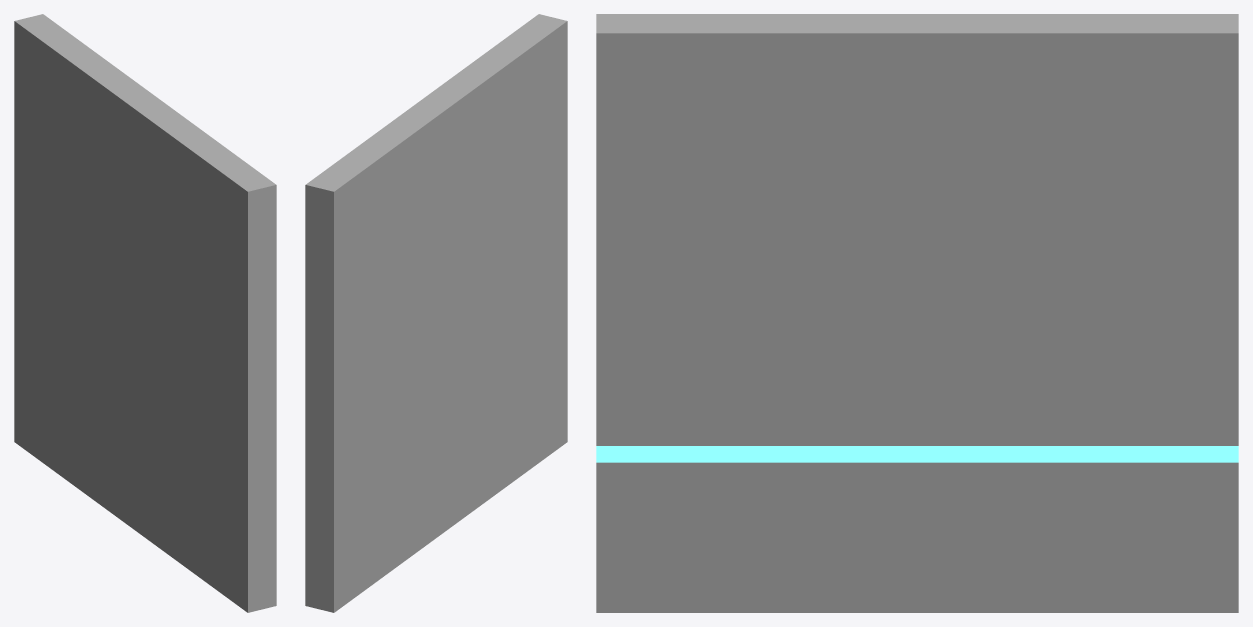
File: 3rd room back wall.fbx
The picture shows the model from 3 angles, left to right: view 1: azimuth 30°, elevation 25°; view 2: azimuth 150°, elevation 25°; view 3: azimuth 270°, elevation 25°; orthographic projection. The views are drawn at different scales.
Parts seen in each view (by area): view 1: Cube.021; view 2: Cube.021; view 3: Cube.021.
Boxes of the visible parts, box(x1,y1,x2,y2) form: Cube.021: box(14, 14, 276, 612); Cube.021: box(305, 14, 567, 612); Cube.021: box(596, 14, 1238, 612).
Size of the model in its own units: 100 by 1404 by 1410.
